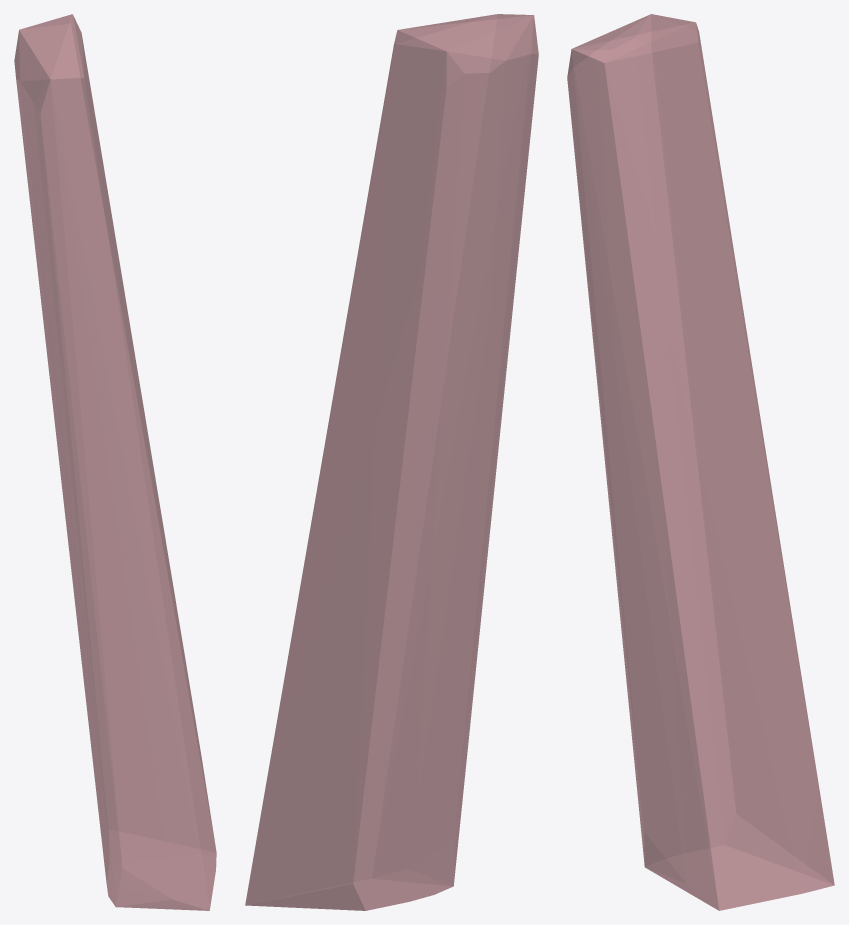
The picture shows the model from 3 angles, left to right: view 1: azimuth 30°, elevation 25°; view 2: azimuth 150°, elevation 25°; view 3: azimuth 330°, elevation 25°; orthographic projection. The views are drawn at different scales.
Visible parts, largest first — view 1: Shape_IndexedFaceSet.004_Shape_IndexedFaceSet.8283; view 2: Shape_IndexedFaceSet.004_Shape_IndexedFaceSet.8283; view 3: Shape_IndexedFaceSet.004_Shape_IndexedFaceSet.8283.
Boxes of the visible parts, x1,y1,x2,y2 form: Shape_IndexedFaceSet.004_Shape_IndexedFaceSet.8283: (14, 14, 216, 910); Shape_IndexedFaceSet.004_Shape_IndexedFaceSet.8283: (245, 14, 538, 910); Shape_IndexedFaceSet.004_Shape_IndexedFaceSet.8283: (567, 14, 834, 910).
Size of the model in its own units: 0.2577 by 0.9413 by 0.116.
